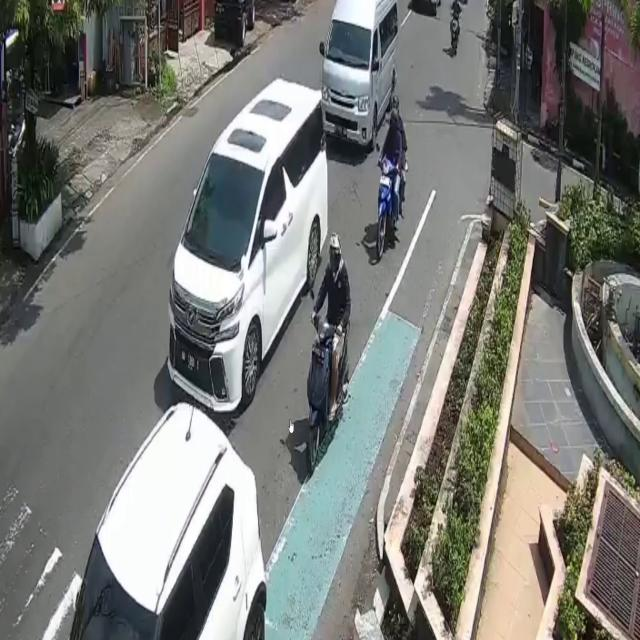bus: (308, 312, 350, 469), (378, 160, 395, 255)
car: (322, 0, 396, 155)
motorcycle: (168, 73, 327, 412), (70, 400, 266, 640)
